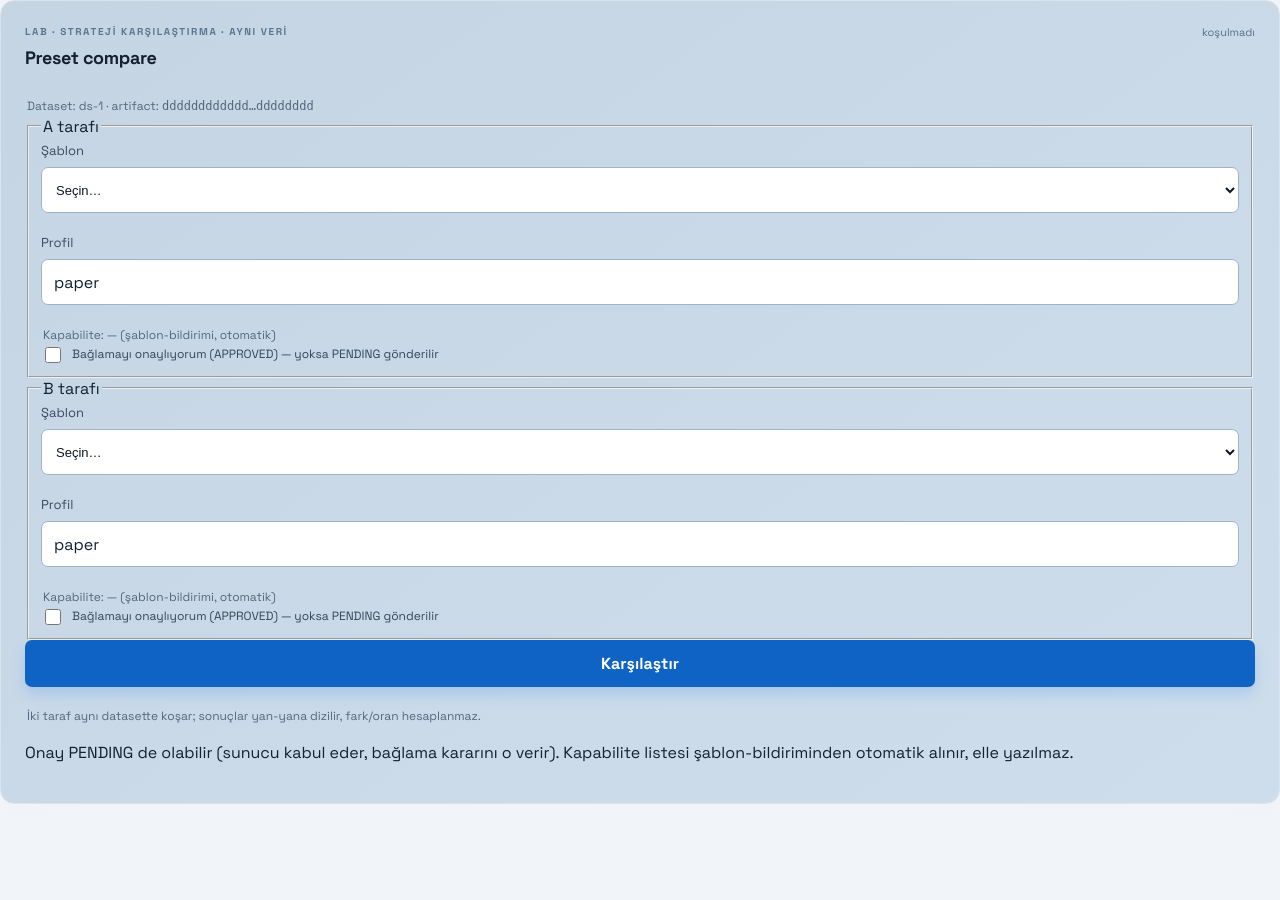
Test: PresetComparePanel › AA.13a: form-doğrulama (şablon-şart, aynı-taraf, profil-şart)
Click the button "Karşılaştır": {"x": 640, "y": 664} top-left (25, 640), bottom-right (1255, 687)
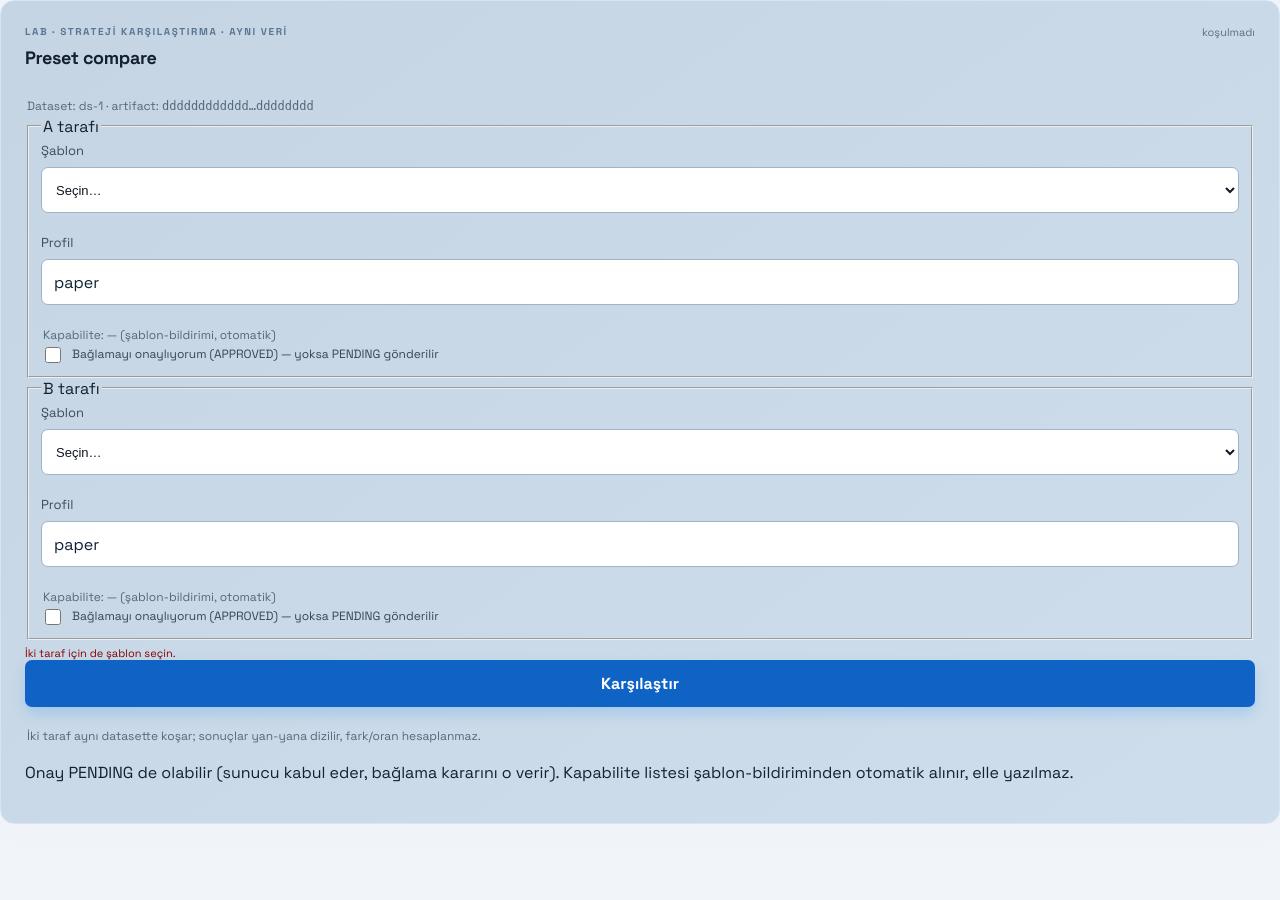
Now the message shows "İki taraf için de şablon seçin", box top-left (25, 646), bottom-right (176, 660)
Select "tpl-a" in the dropdown named "A tarafı şablon": {"x": 640, "y": 190} top-left (42, 169), bottom-right (1238, 212)
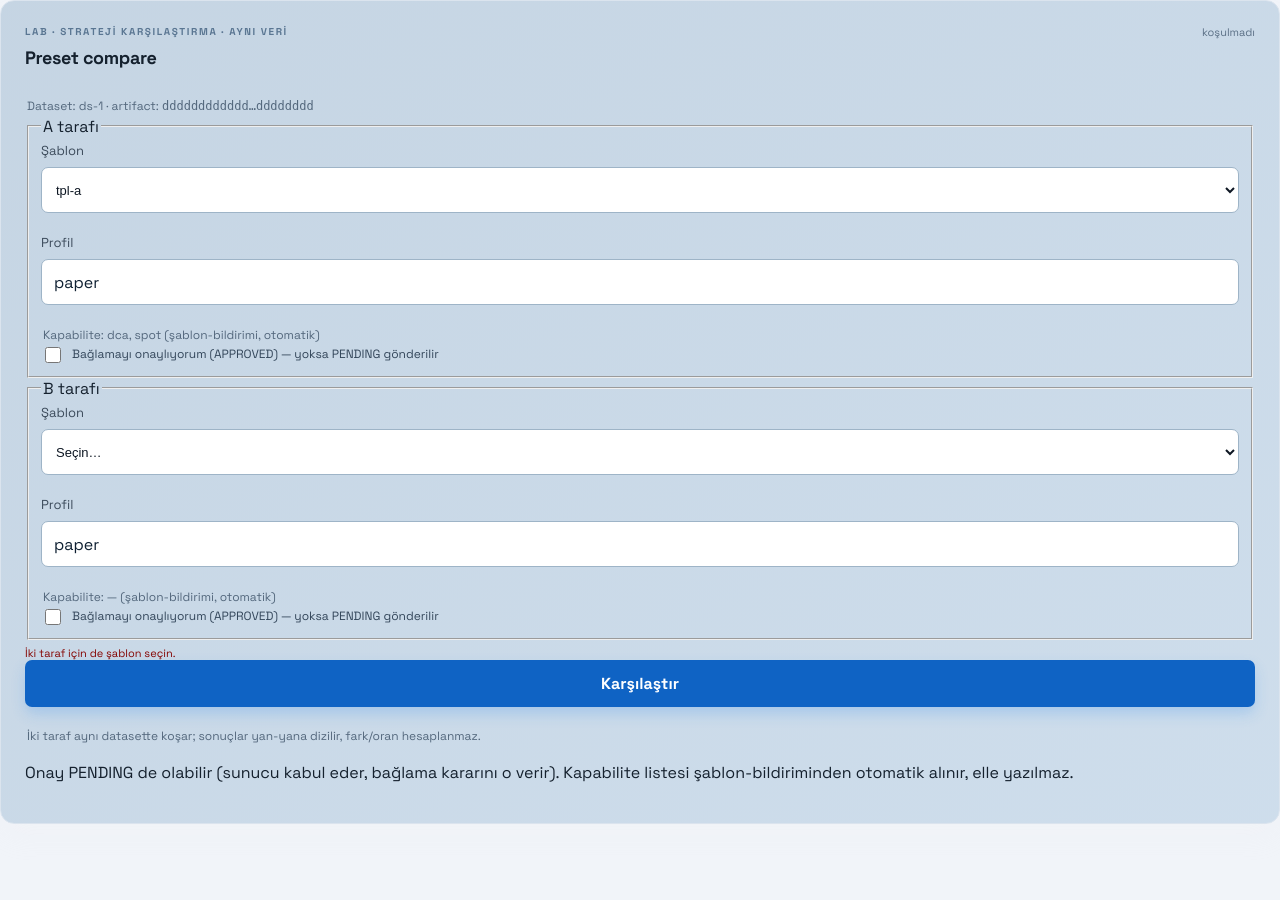
Select "tpl-a" in the dropdown named "B tarafı şablon": {"x": 640, "y": 452} top-left (42, 431), bottom-right (1238, 474)
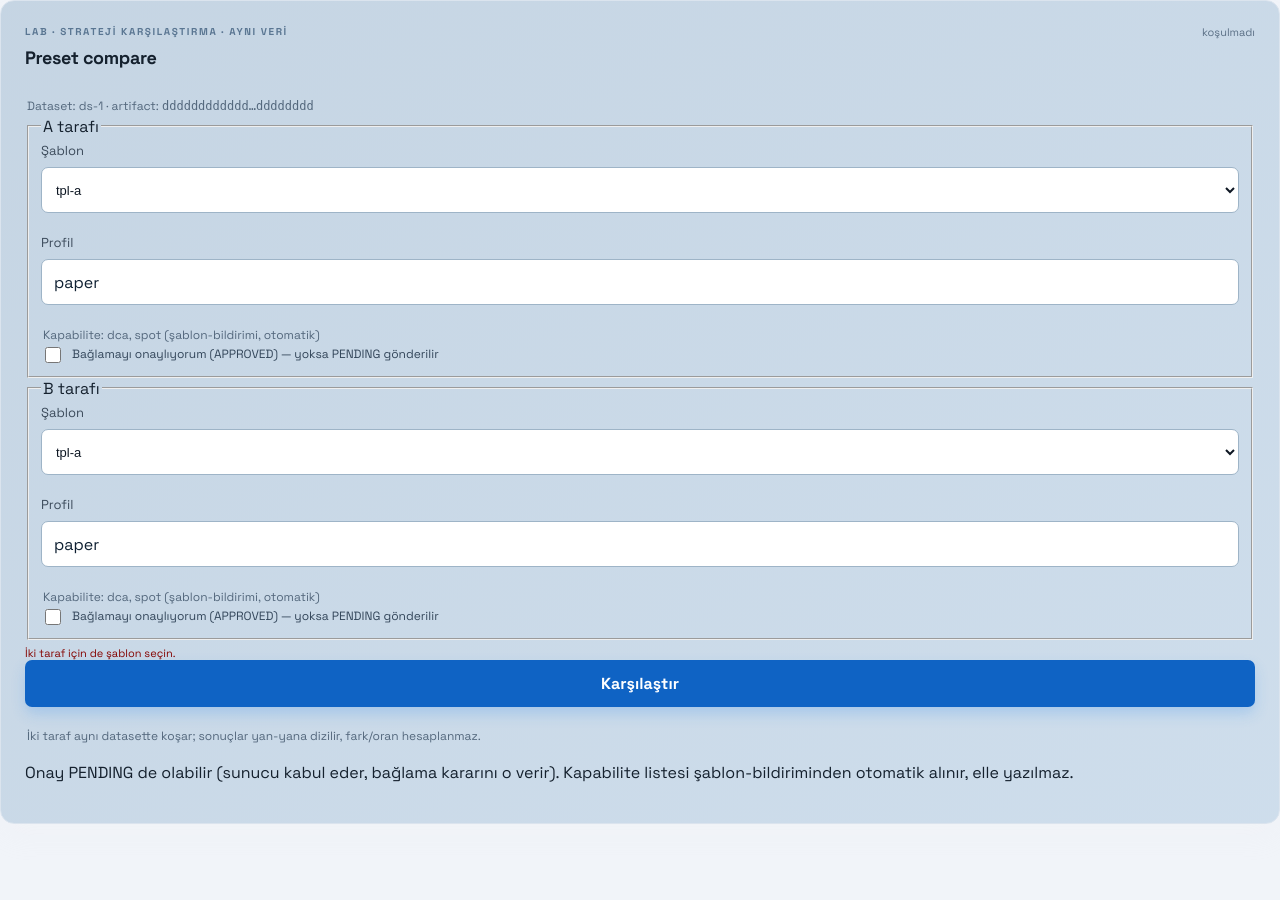
Click the button "Karşılaştır": {"x": 640, "y": 684} top-left (25, 660), bottom-right (1255, 707)
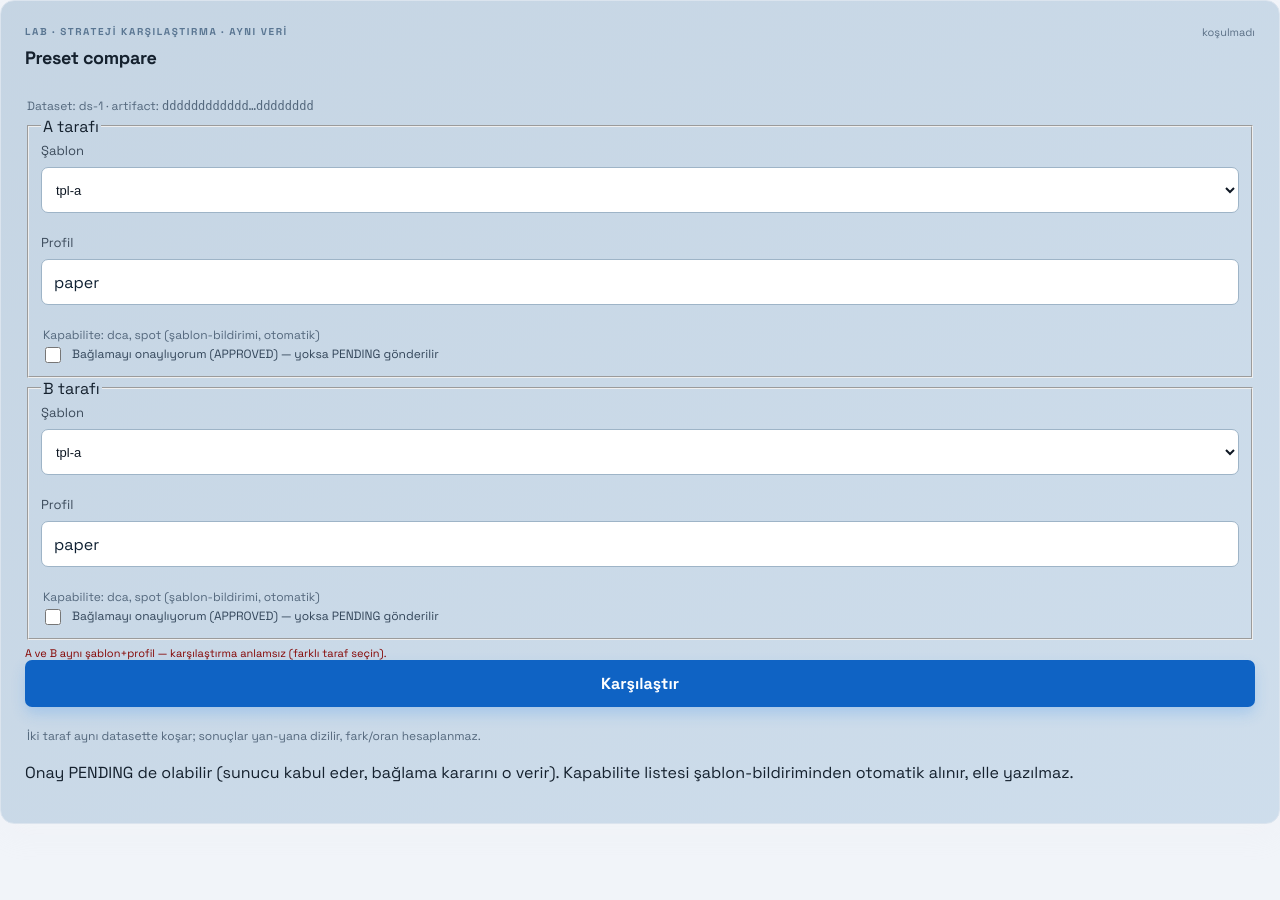
Now the message shows "aynı şablon+profil", box top-left (25, 646), bottom-right (386, 660)
Clear the field named "B tarafı profil": {"x": 640, "y": 544} top-left (42, 523), bottom-right (1238, 566)
Select "tpl-b" in the dropdown named "B tarafı şablon": {"x": 640, "y": 452} top-left (42, 431), bottom-right (1238, 474)
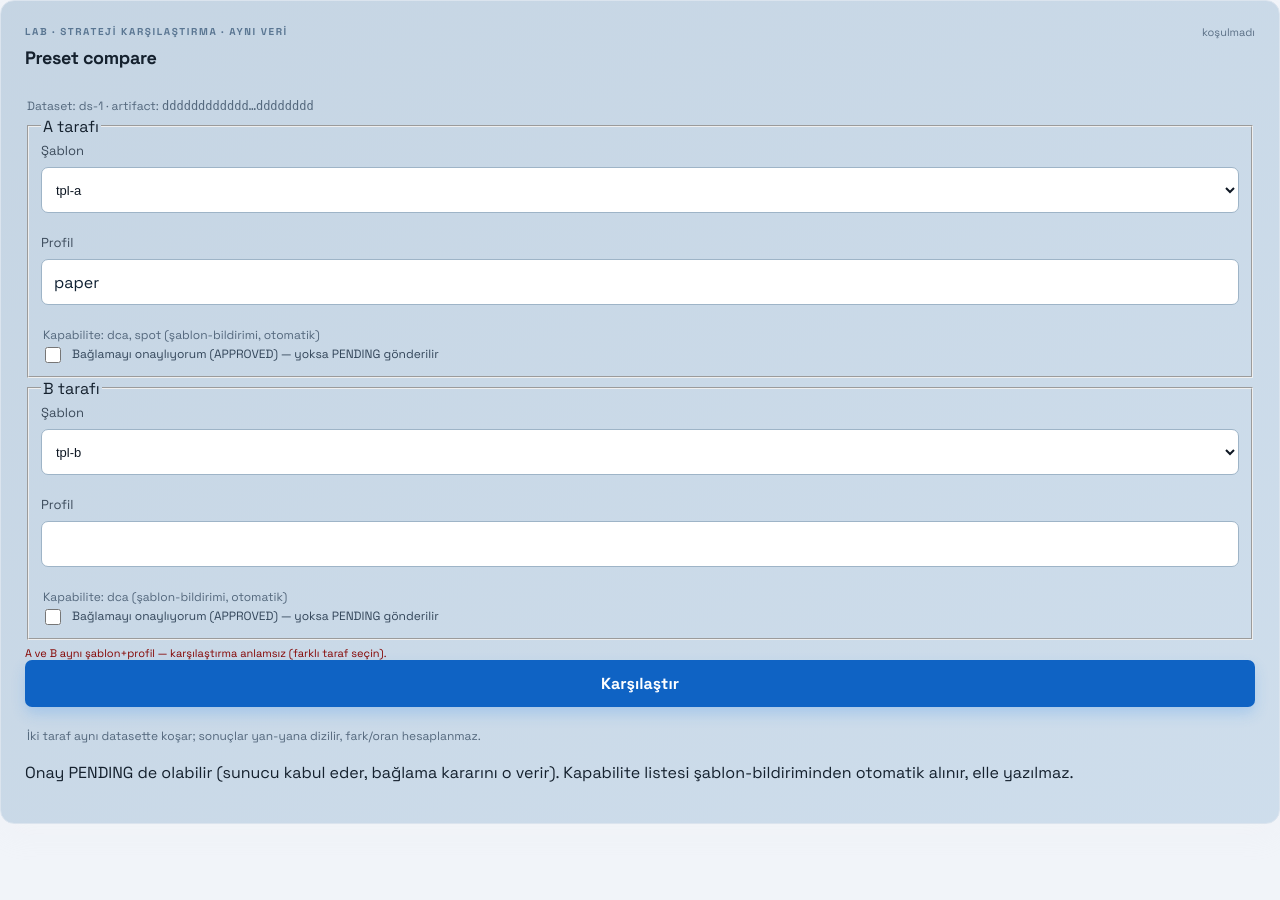
Click the button "Karşılaştır": {"x": 640, "y": 684} top-left (25, 660), bottom-right (1255, 707)
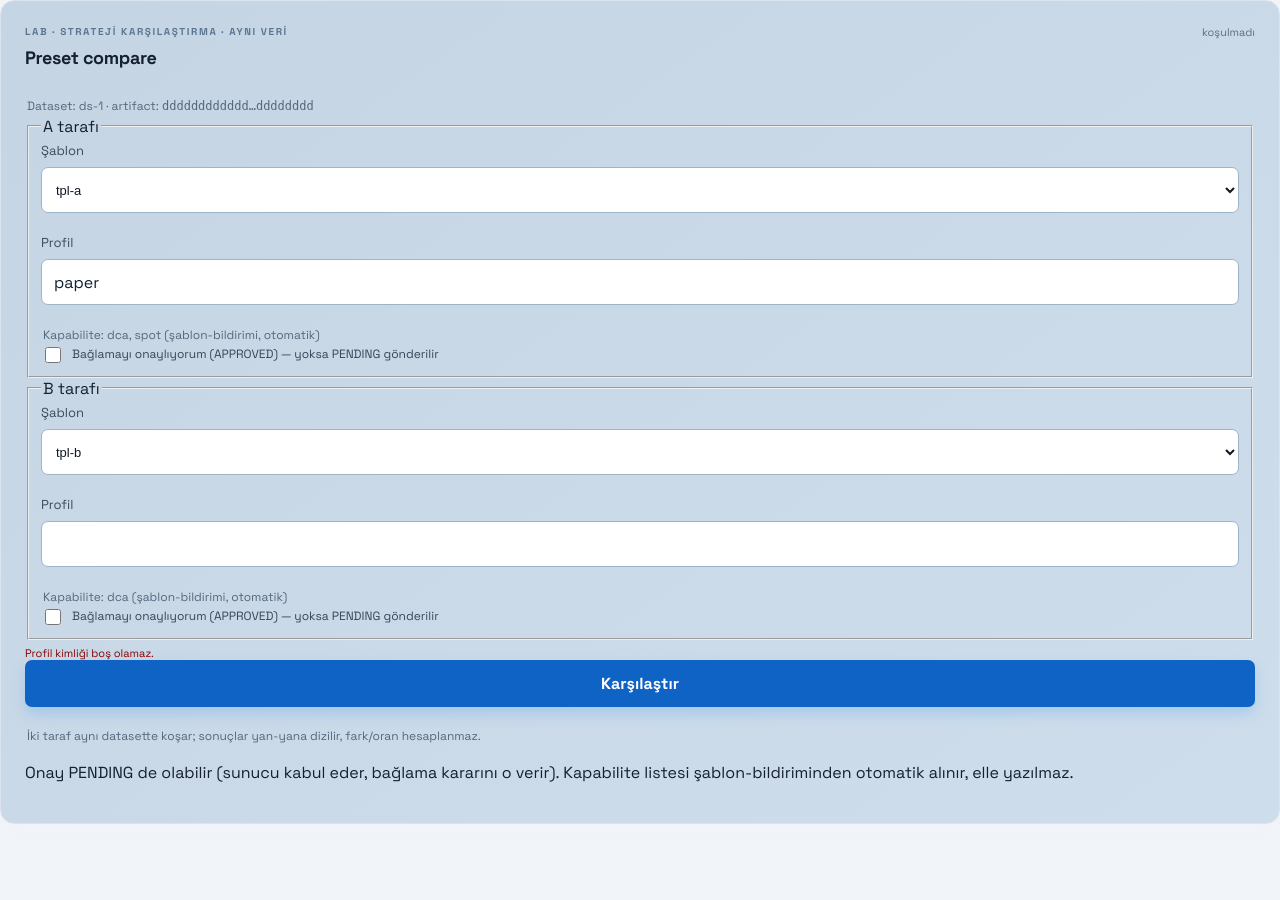
Now the message shows "Profil kimliği boş olamaz", box top-left (25, 646), bottom-right (154, 660)
